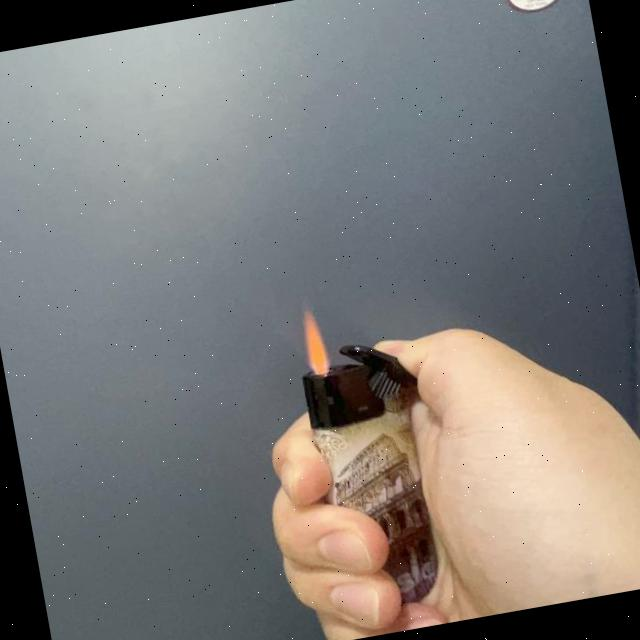fire: (296, 304, 337, 378)
